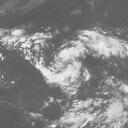cyclone: (48, 40, 89, 73)
